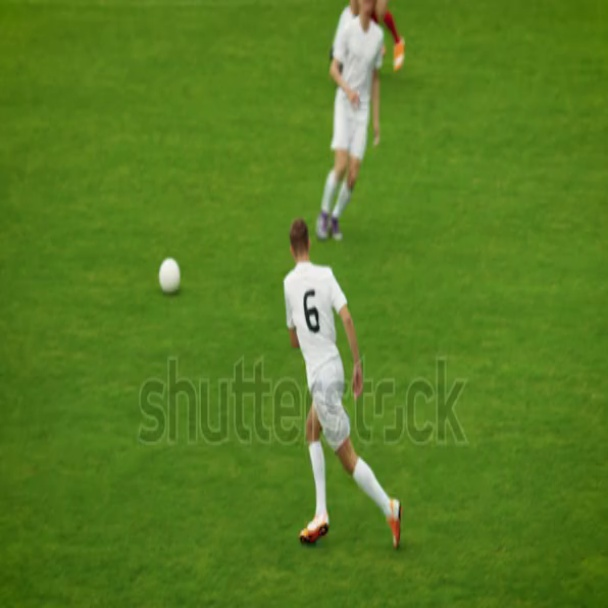ball: (161, 257, 178, 286)
